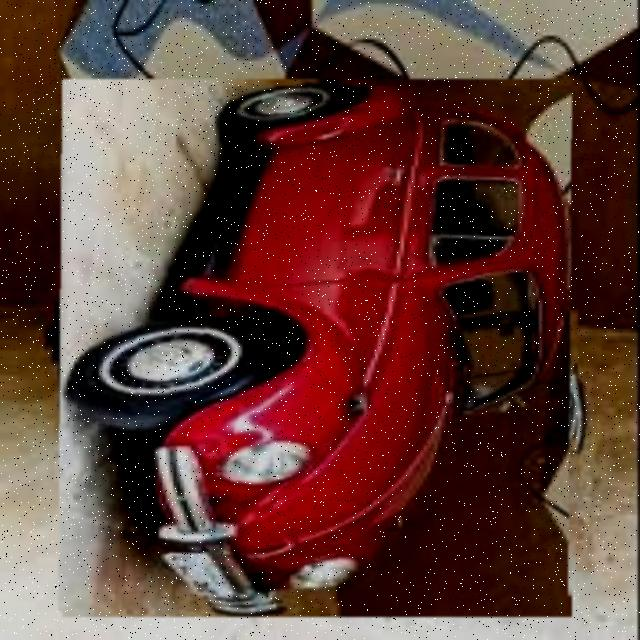car: (55, 87, 581, 612)
